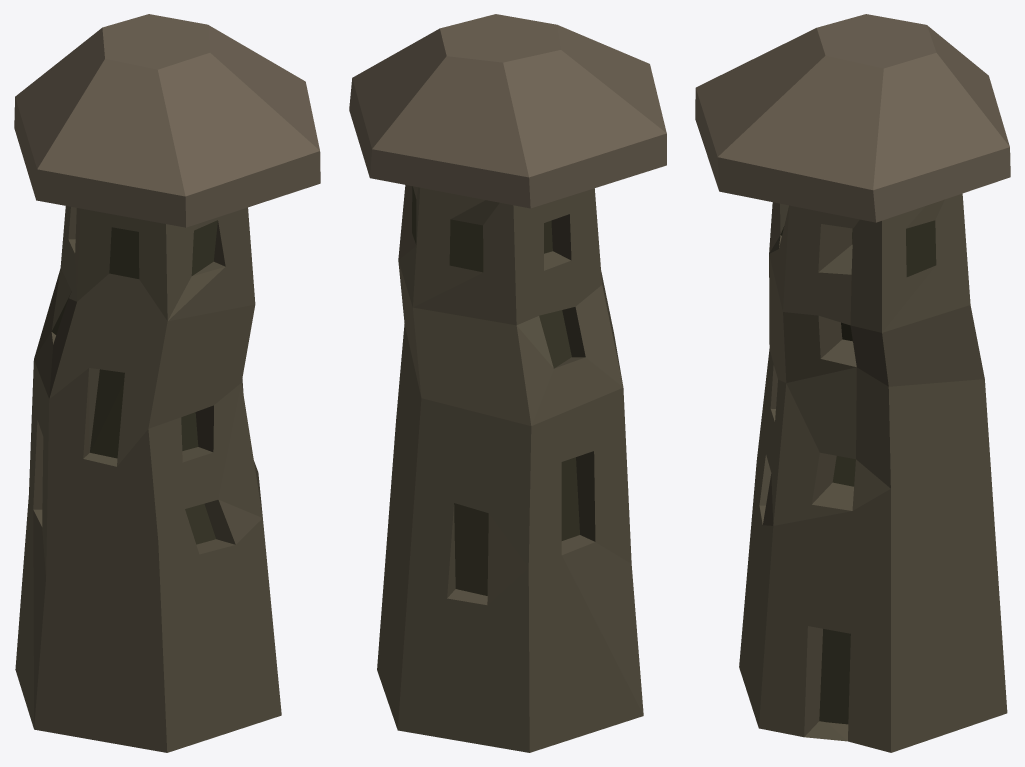
Rendered from tower.fbx.
3 views of the same model, side by side, from view 1: azimuth 30°, elevation 25°; view 2: azimuth 150°, elevation 25°; view 3: azimuth 270°, elevation 25° (orthographic).
Visible parts, largest first — view 1: Cylinder; view 2: Cylinder; view 3: Cylinder.
Part boxes in pixels (x1=…): Cylinder: x1=14, y1=14, x2=320, y2=752; Cylinder: x1=349, y1=14, x2=666, y2=752; Cylinder: x1=695, y1=14, x2=1010, y2=752.
Size of the model in its own units: 455 by 969 by 421.
